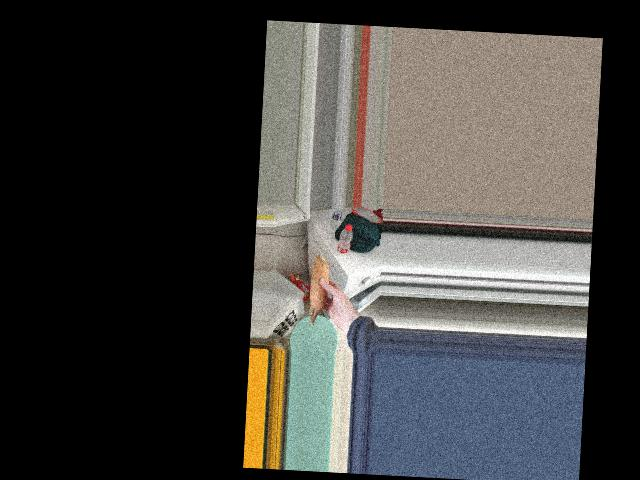sweet_potato: (307, 259, 334, 326)
